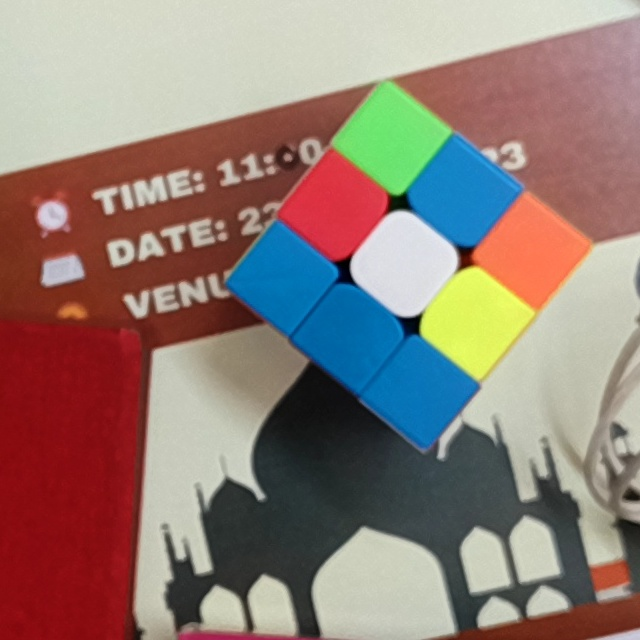tile: (430, 163, 493, 224), (503, 220, 561, 283), (372, 234, 434, 291), (320, 306, 380, 364), (447, 288, 503, 350), (361, 110, 420, 167), (394, 362, 451, 421), (305, 180, 365, 234), (256, 251, 313, 302)
